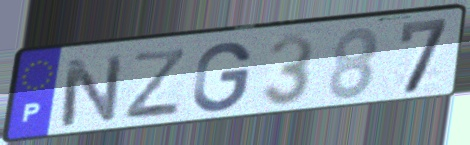3: (260, 30, 318, 111)
7: (396, 15, 452, 97)
8: (325, 24, 384, 103)
G: (190, 40, 255, 115)
N: (57, 52, 126, 130)
Z: (121, 46, 189, 122)
